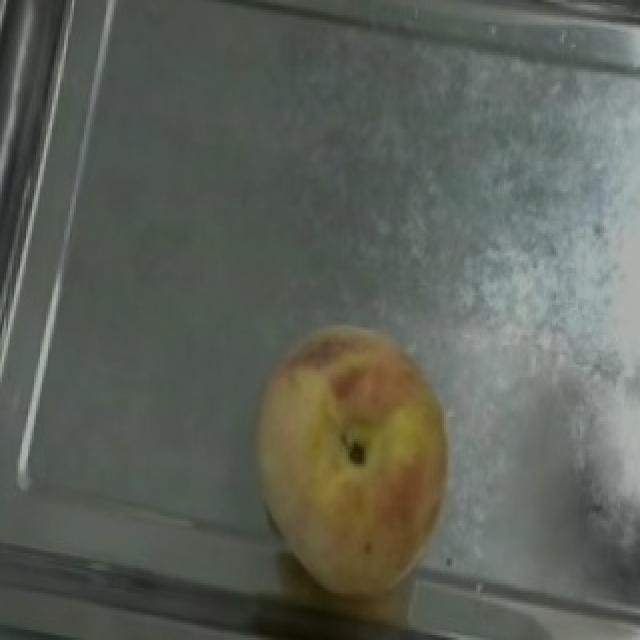Fruit: (216, 303, 484, 625)
